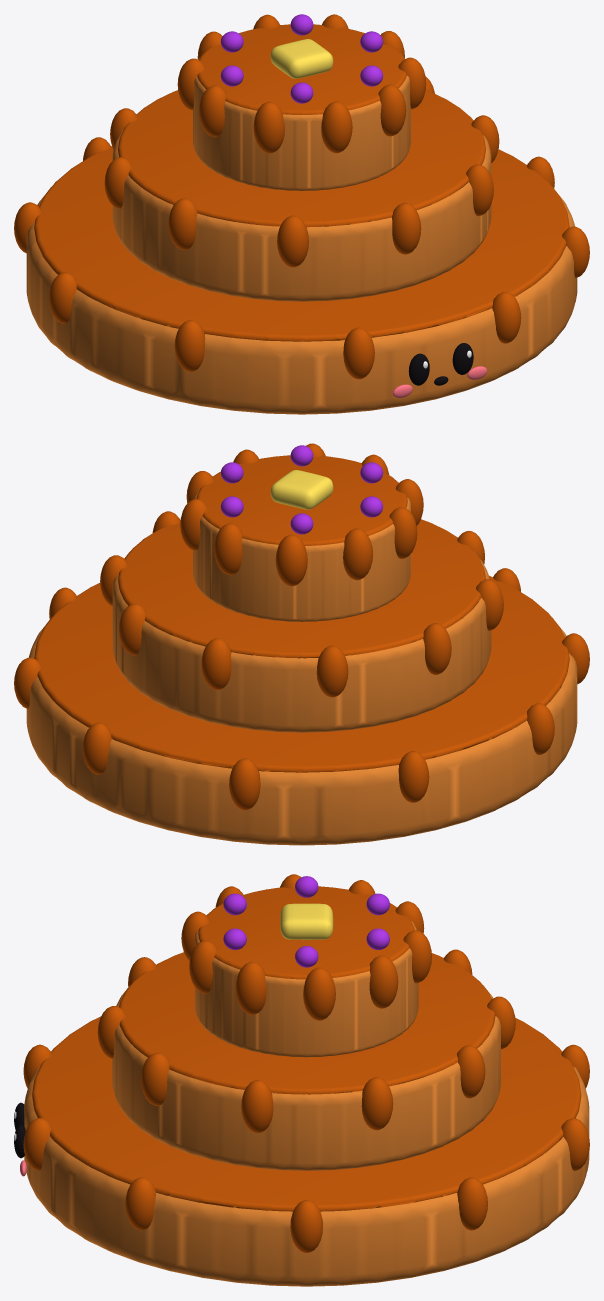
Rendered from Pancakes.glb.
3 renders of one model, top to bottom at view 1: azimuth 30°, elevation 25°; view 2: azimuth 150°, elevation 25°; view 3: azimuth 270°, elevation 25°, orthographic. The views are drawn at different scales.
Parts seen in each view (by area): view 1: Cylinder, Cylinder.001, Cylinder.002, Cylinder.003, Cylinder.004, Cylinder.005, Cube, Sphere.015, Sphere.007, Sphere.024, Sphere.023, Sphere.006 (+16 smaller); view 2: Cylinder, Cylinder.001, Cylinder.002, Cylinder.003, Cylinder.004, Cylinder.005, Cube, Sphere.020, Sphere.012, Sphere.003, Sphere.004, Sphere.011 (+13 smaller); view 3: Cylinder, Cylinder.001, Cylinder.002, Cylinder.003, Cylinder.004, Cylinder.005, Cube, Sphere, Sphere.027, Sphere.018, Sphere.019, Sphere.026 (+14 smaller).
Boxes of the visible parts, x1,y1,x2,y2 form: Cylinder: [26, 187, 577, 414]; Cylinder.001: [34, 146, 569, 341]; Cylinder.002: [112, 129, 491, 301]; Cylinder.003: [118, 90, 485, 227]; Cylinder.004: [193, 53, 410, 190]; Cylinder.005: [197, 24, 406, 114]; Cube: [270, 39, 333, 78]; Sphere.015: [277, 215, 308, 267]; Sphere.007: [343, 327, 374, 379]; Sphere.024: [321, 101, 352, 153]; Sphere.023: [253, 101, 284, 153]; Sphere.006: [174, 320, 205, 371]; Cylinder: [26, 617, 577, 845]; Cylinder.001: [34, 575, 569, 772]; Cylinder.002: [112, 551, 491, 732]; Cylinder.003: [118, 519, 485, 658]; Cylinder.004: [193, 489, 410, 621]; Cylinder.005: [196, 455, 407, 545]; Cube: [270, 470, 333, 509]; Sphere.020: [275, 534, 307, 586]; Sphere.012: [316, 645, 348, 697]; Sphere.003: [229, 758, 260, 810]; Sphere.004: [398, 751, 429, 802]; Sphere.011: [201, 638, 231, 689]; Cylinder: [24, 1066, 589, 1286]; Cylinder.001: [32, 1016, 581, 1211]; Cylinder.002: [112, 985, 500, 1170]; Cylinder.003: [119, 952, 495, 1094]; Cylinder.004: [195, 921, 418, 1057]; Cylinder.005: [198, 886, 414, 979]; Cube: [280, 903, 333, 939]; Sphere: [290, 1200, 322, 1252]; Sphere.027: [303, 967, 335, 1020]; Sphere.018: [241, 1080, 273, 1133]; Sphere.019: [361, 1077, 393, 1130]; Sphere.026: [235, 961, 266, 1014].
Bounding box in the file's own units: 5.03 × 2.45 × 4.88.
